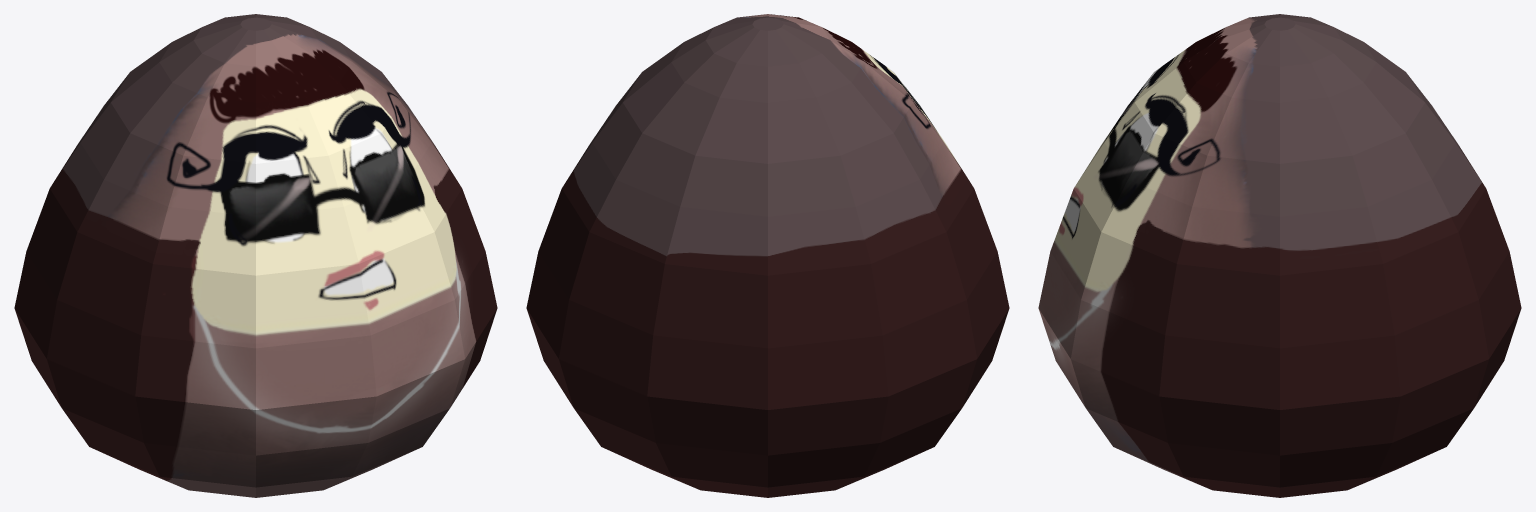
The model's file is Daruma2nd.fbx.
3 views of the same model, side by side, from view 1: azimuth 30°, elevation 25°; view 2: azimuth 150°, elevation 25°; view 3: azimuth 270°, elevation 25° (orthographic).
Parts seen in each view (by area): view 1: Daruma2nd; view 2: Daruma2nd; view 3: Daruma2nd.
Part boxes in pixels (<box>): Daruma2nd: <box>14,14,497,497</box>; Daruma2nd: <box>526,14,1009,497</box>; Daruma2nd: <box>1038,14,1521,497</box>.
Bounding box in the file's own units: 0.9461 × 0.9596 × 0.9461.
